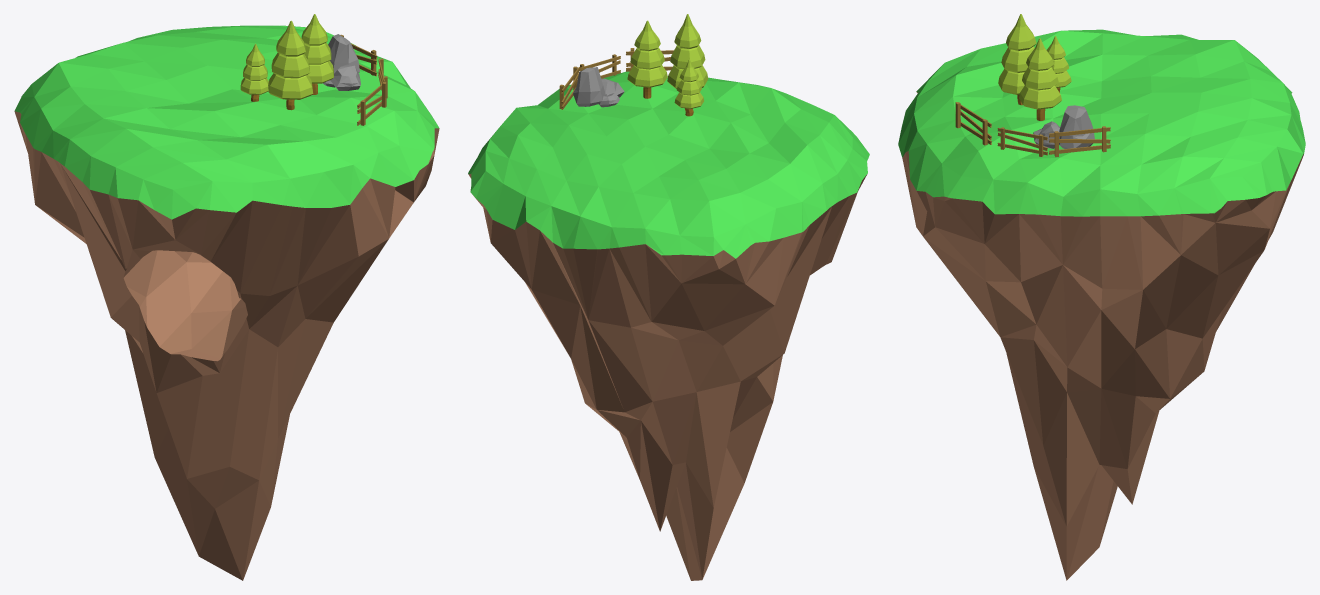
File: island_farm.glb
3 renders of one model, left to right at view 1: azimuth 30°, elevation 25°; view 2: azimuth 150°, elevation 25°; view 3: azimuth 270°, elevation 25°, orthographic. The views are drawn at different scales.
Parts seen in each view (by area): view 1: Island_IslandDirt_0; view 2: Island_IslandDirt_0; view 3: Island_IslandDirt_0.
Part boxes in pixels (left/top/right/bottom): Island_IslandDirt_0: left=14, top=14, right=439, bottom=580; Island_IslandDirt_0: left=468, top=14, right=869, bottom=580; Island_IslandDirt_0: left=898, top=14, right=1305, bottom=580.
Bounding box in the file's own units: 36.48 × 58.08 × 37.03.
